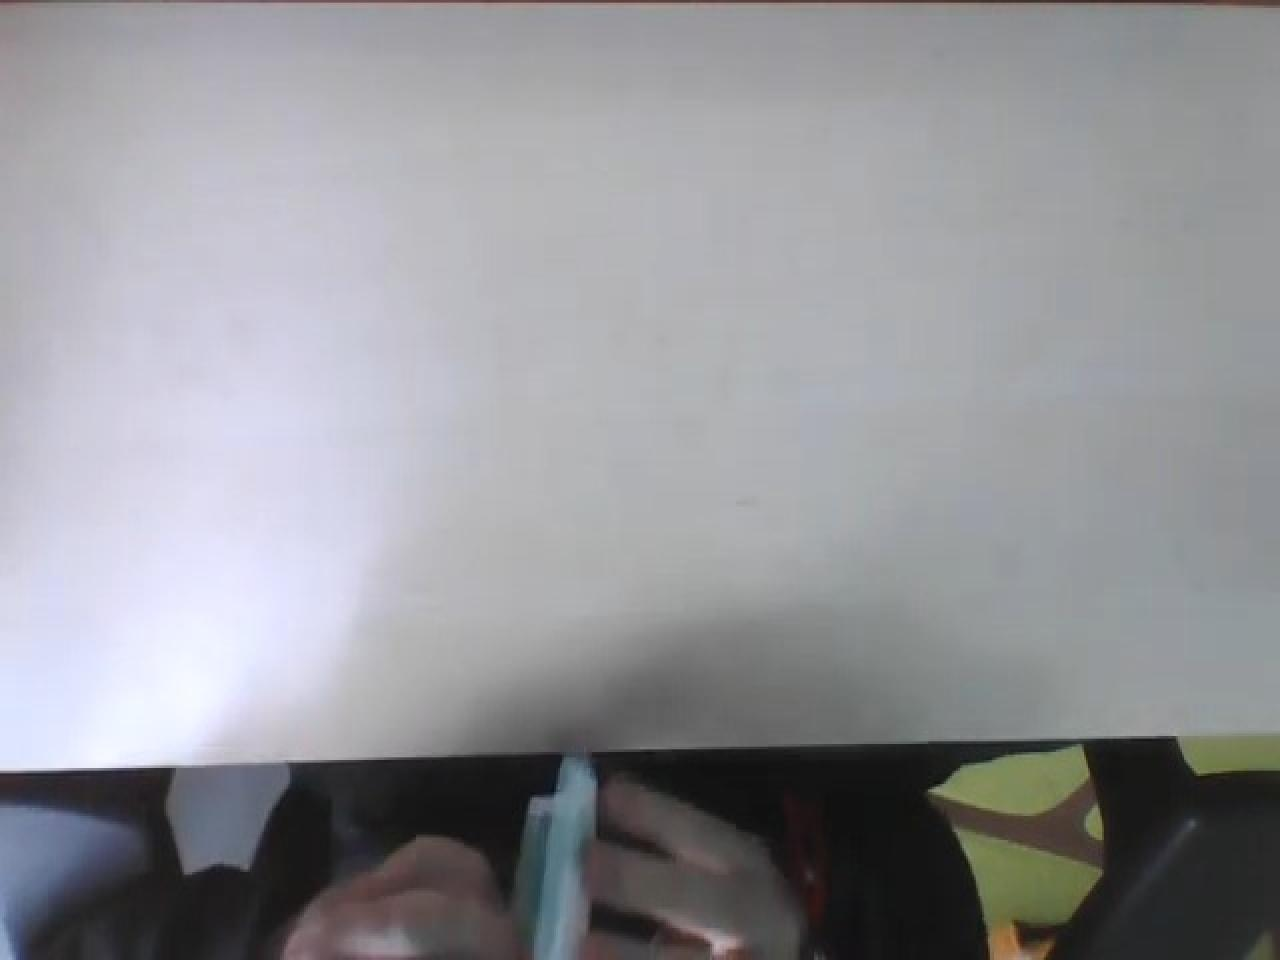100leva: (6, 741, 1272, 960)
